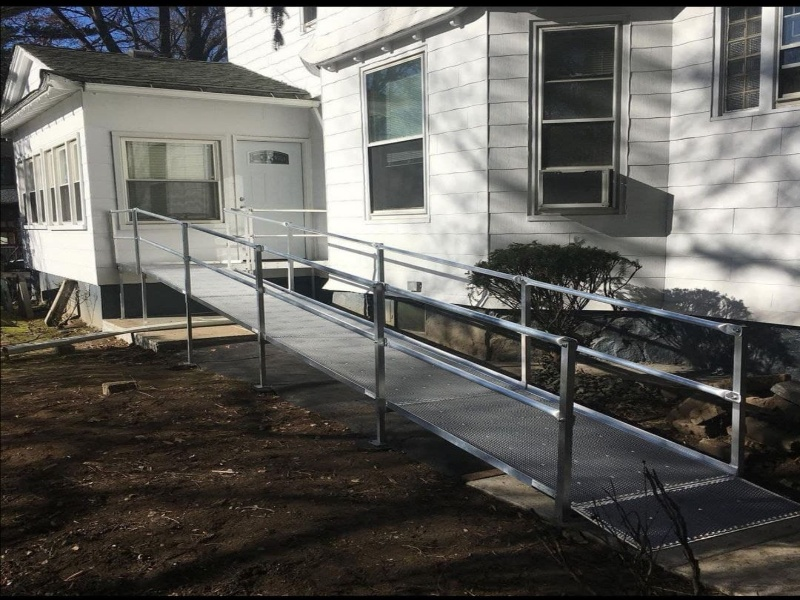slope: (89, 240, 726, 577)
